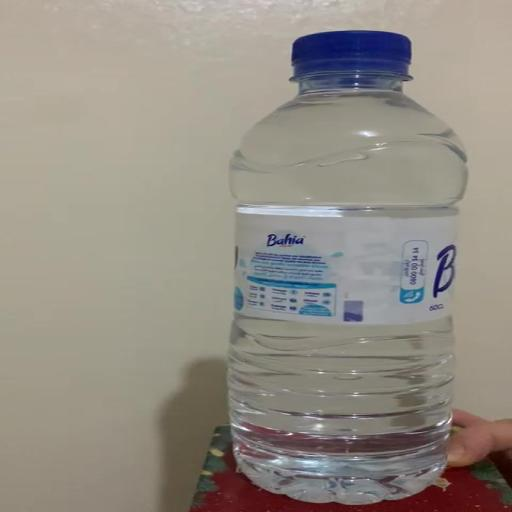bouteille conformite: (293, 31, 410, 93), (291, 453, 429, 502)
